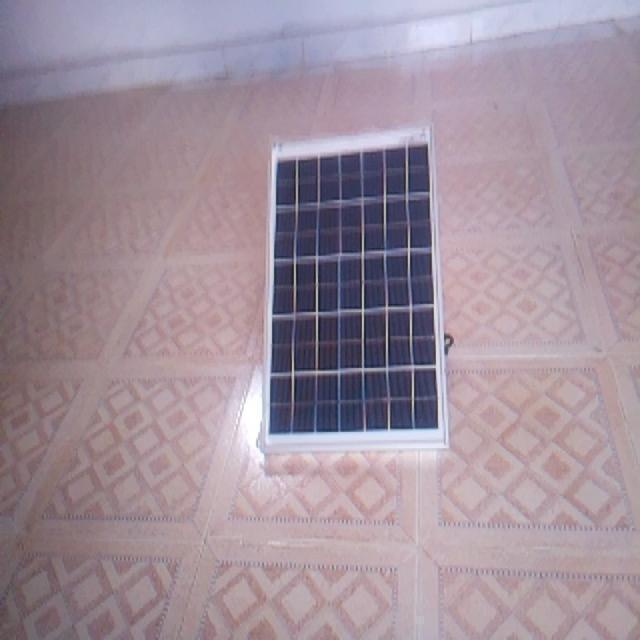Normal Solar Panel: (262, 127, 449, 452)
